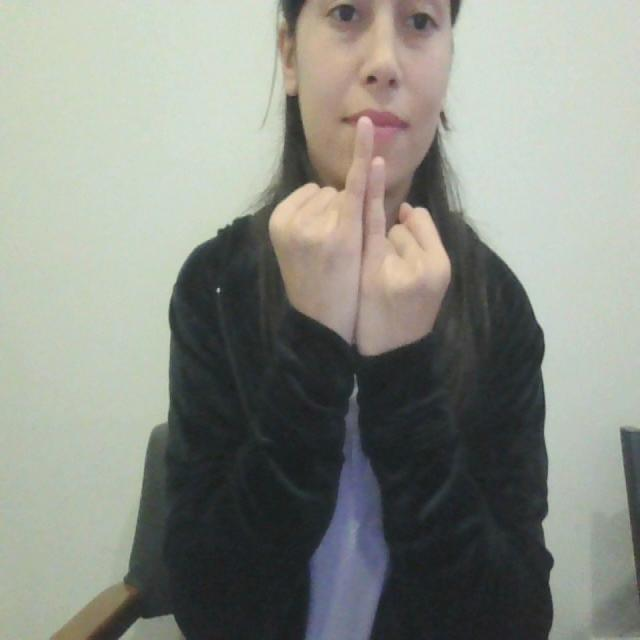Kardes: (264, 111, 456, 366)
